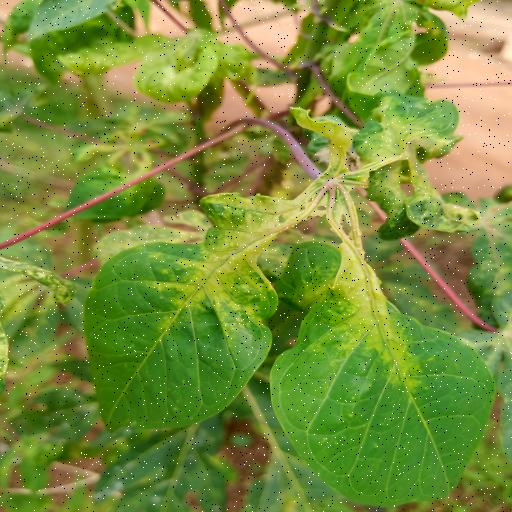Cassava_Mosaic: (80, 110, 504, 508)
